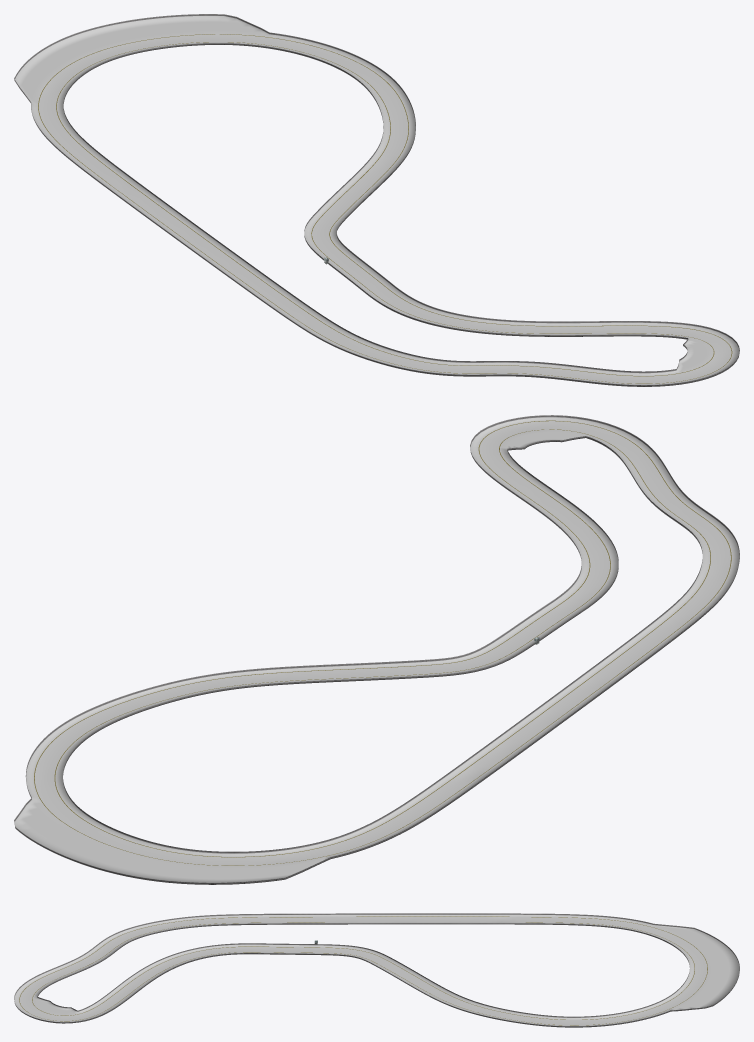
The model's file is MountainValley_Track.fbx.
3 renders of one model, top to bottom at view 1: azimuth 30°, elevation 25°; view 2: azimuth 150°, elevation 25°; view 3: azimuth 270°, elevation 25°, orthographic. The views are drawn at different scales.
Parts seen in each view (by area): view 1: Road_Bed; view 2: Road_Bed; view 3: Road_Bed.
Part boxes in pixels (box(x1,y1,x2,y2)): Road_Bed: box(14, 14, 739, 386); Road_Bed: box(14, 415, 739, 884); Road_Bed: box(14, 913, 739, 1027).
Size of what is drawn, in the model's own units: 594 by 10.27 by 1611.
